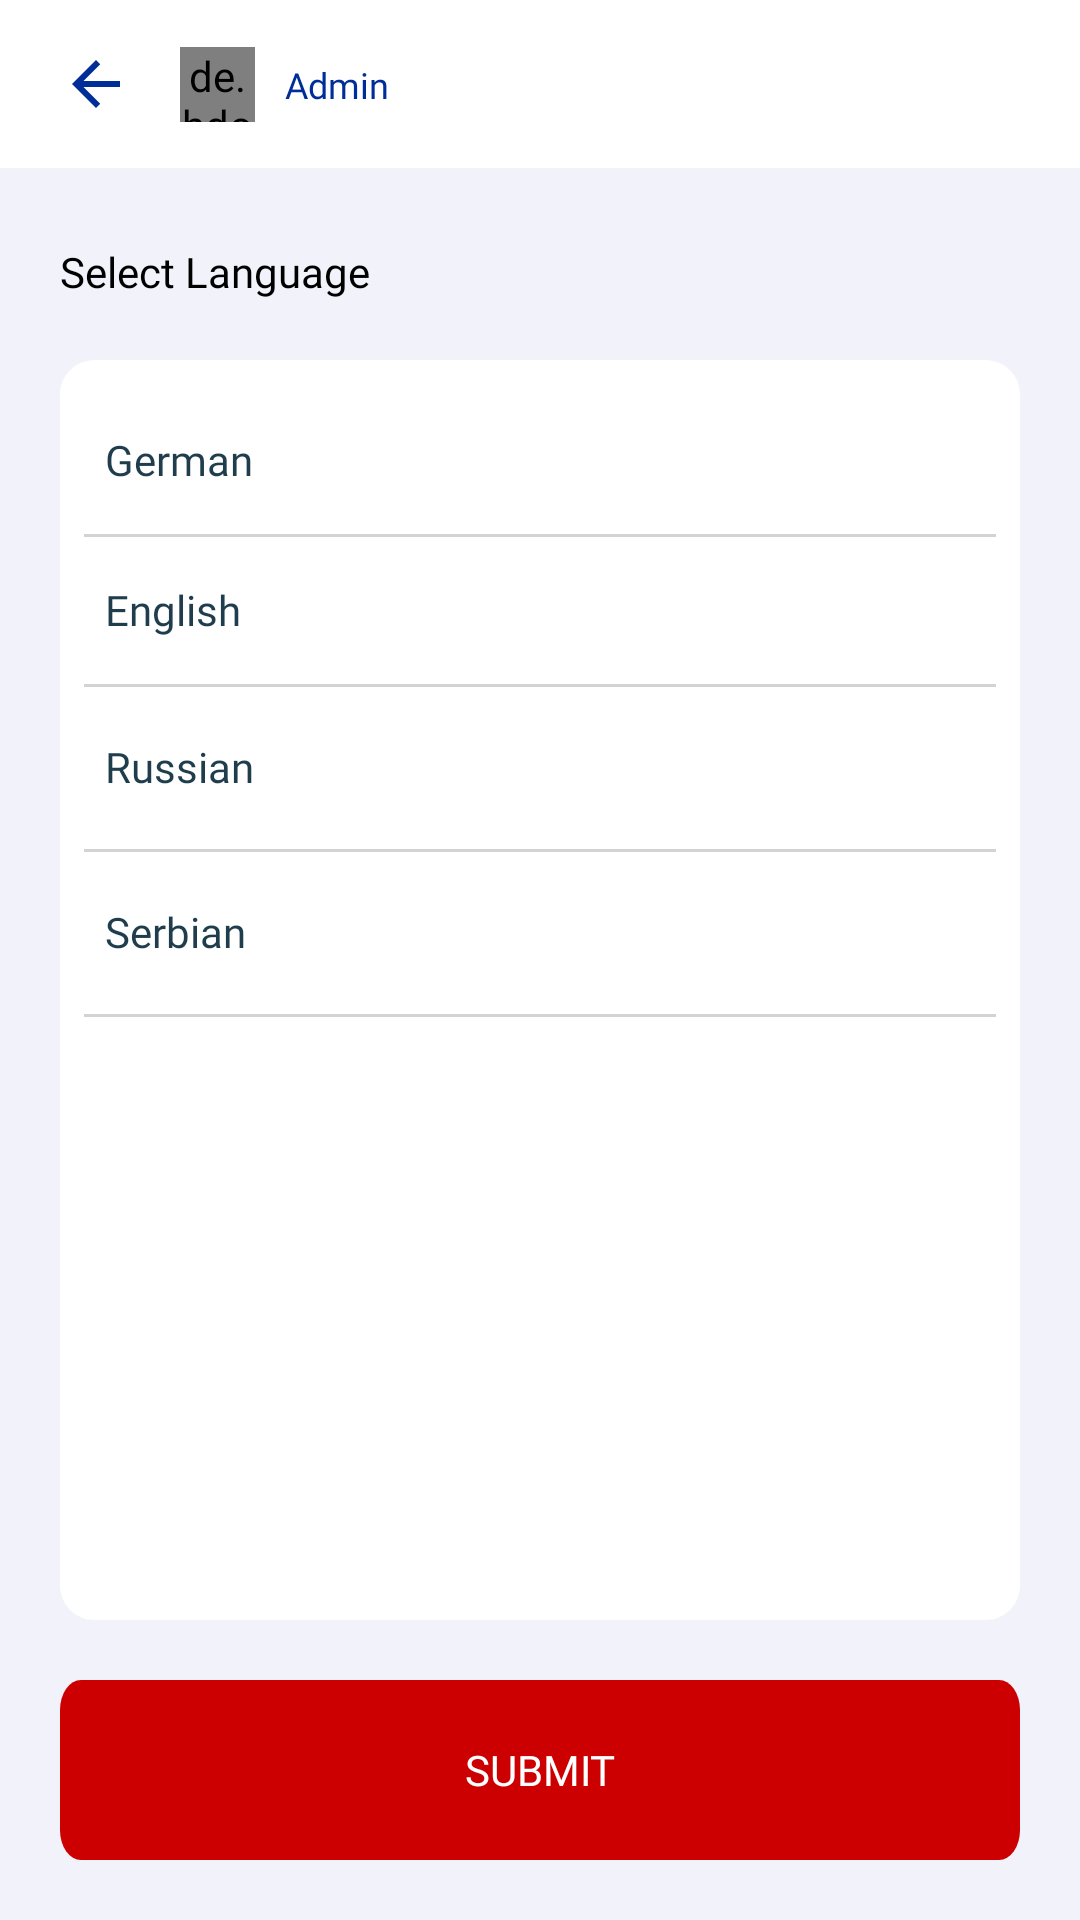

Icons on this 1080 x 1920 Android screen, each with its box as (x1,y1,x2,y2):
back arrow: (72,60,120,108)
